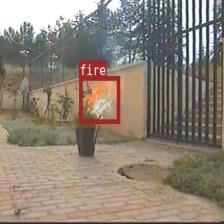fire: (78, 76, 119, 122)
